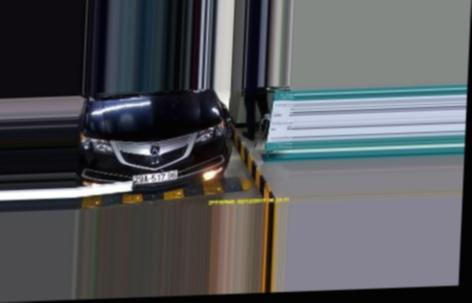License_Plate: (132, 171, 180, 186)
